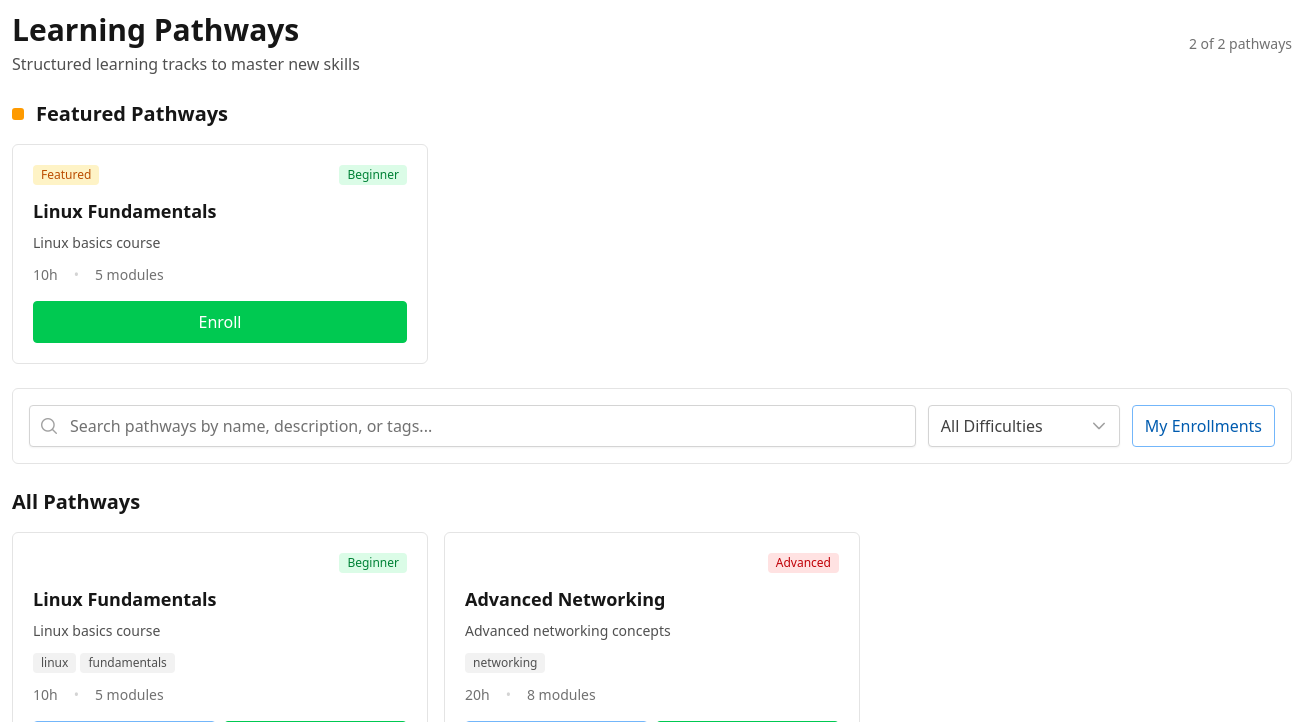
Scenario: PathwaysListView › filtering › should filter pathways by search query
Type "Linux" into the field named "Search pathways by name, description, or tags". click: (472, 426)
box: [29,405,916,447]
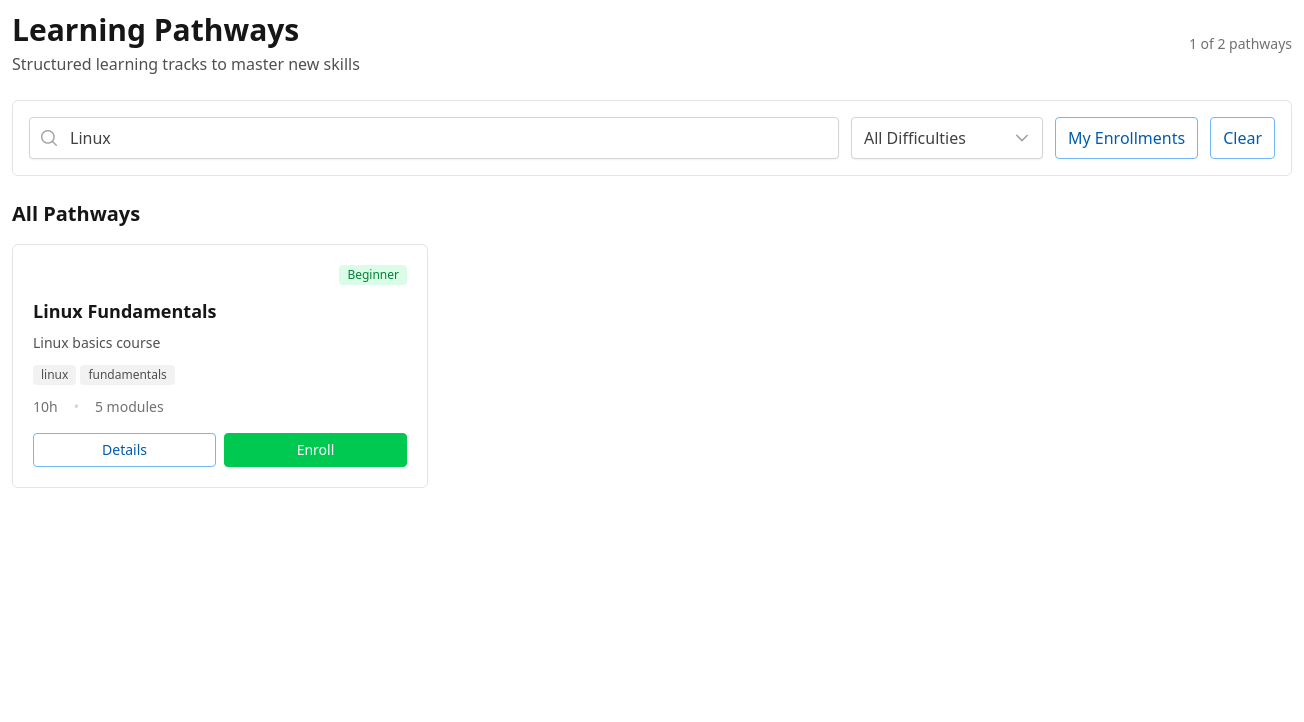
Expected: the text "Linux Fundamentals" is shown, [33,299,216,323]
Now the text "1 of 2" is shown, box [1189,34,1292,53]
